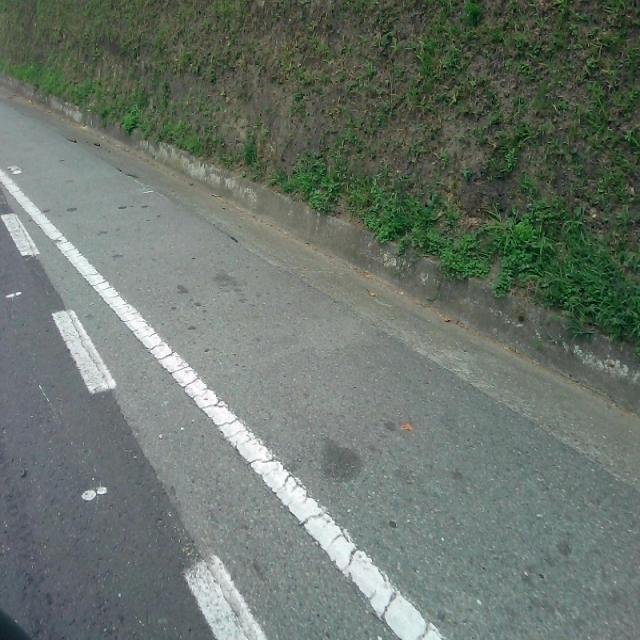DITCH: (1, 1, 638, 638), (1, 19, 638, 638), (1, 88, 638, 638)
